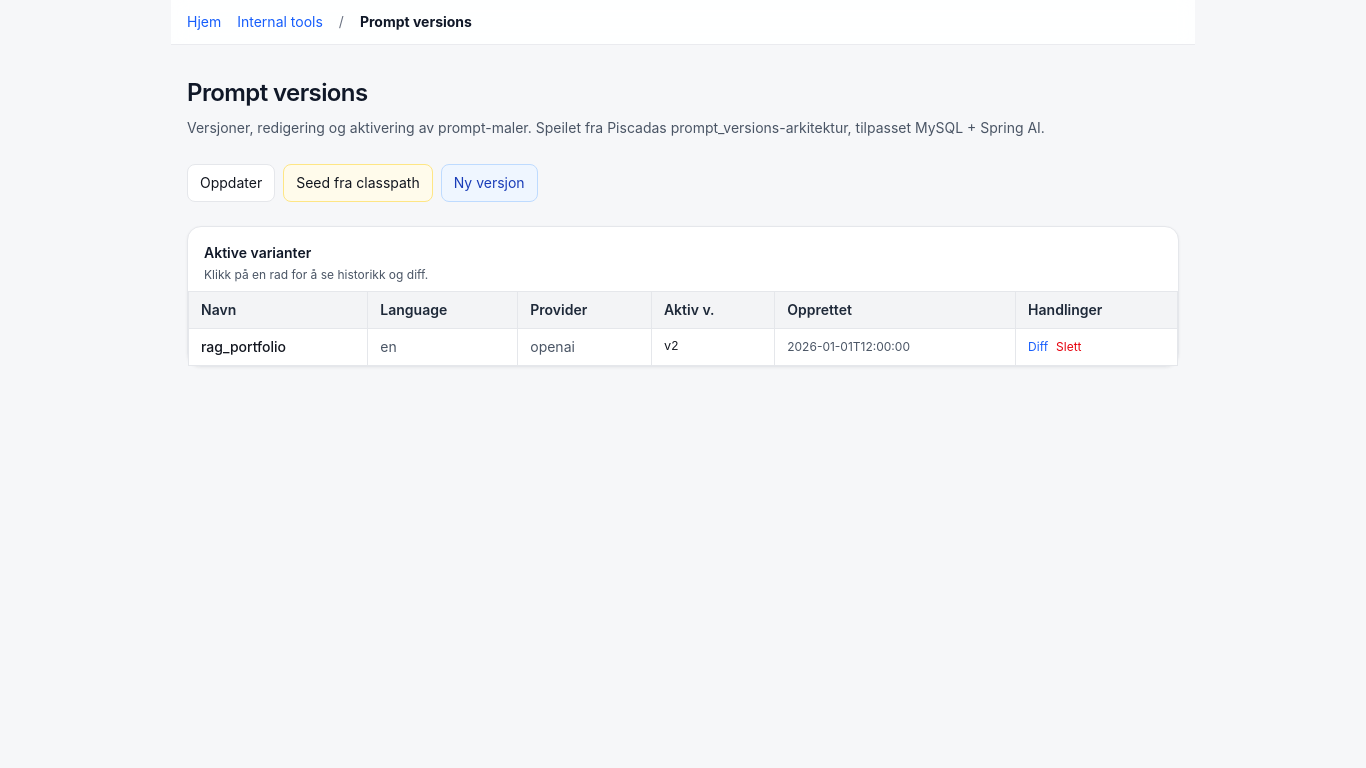
it: Admin CRUD views (integration-style) › AdminPromptsView loads history and diff for a variant
This screenshot has width=1366, height=768.
Click the row "rag_portfolio en openai v2 2026-01-01T12:00:00 Diff Slett": (683, 347) x1=188 y1=328 x2=1178 y2=365
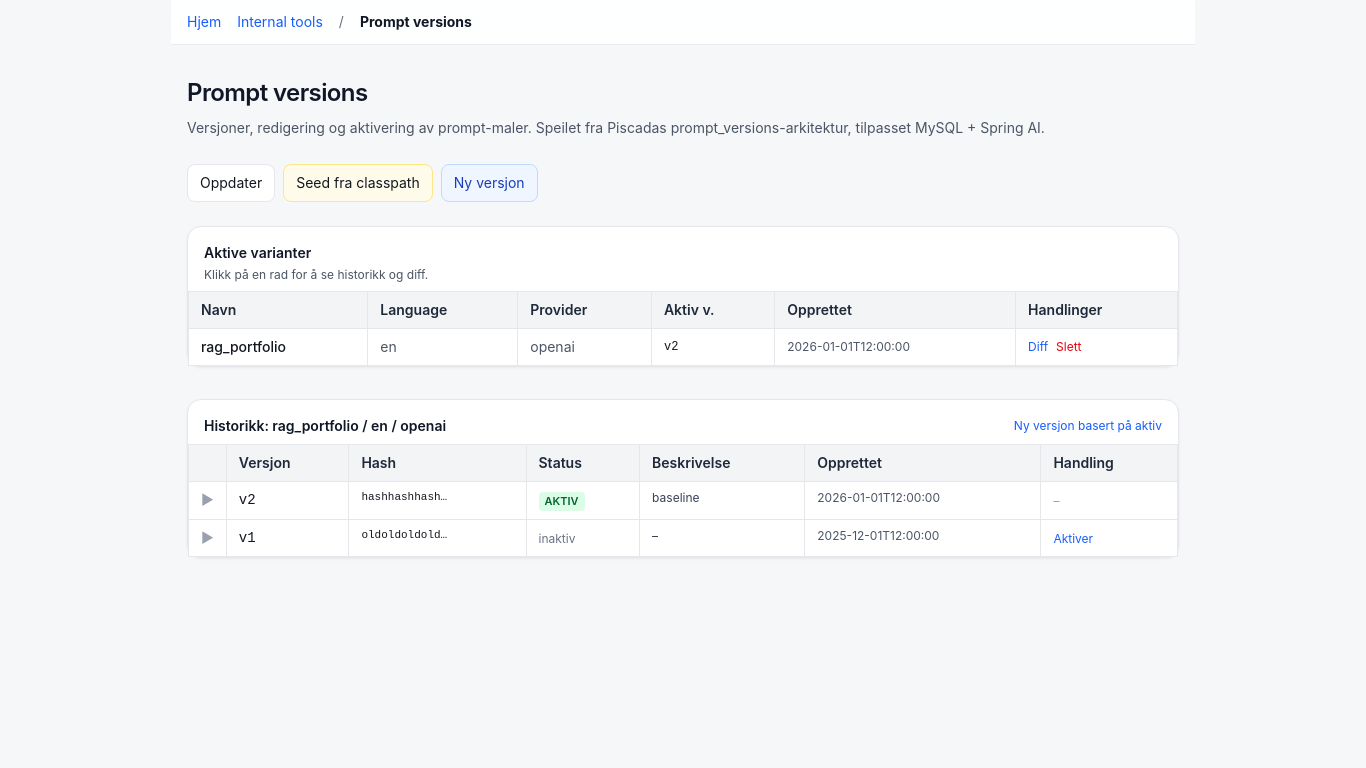
Check: the text "v2" is shown, box x1=651 y1=328 x2=775 y2=365
Check: the text "Historikk:" is shown, box x1=204 y1=417 x2=446 y2=434
Click the button "Diff": (1038, 347) x1=1028 y1=339 x2=1048 y2=355
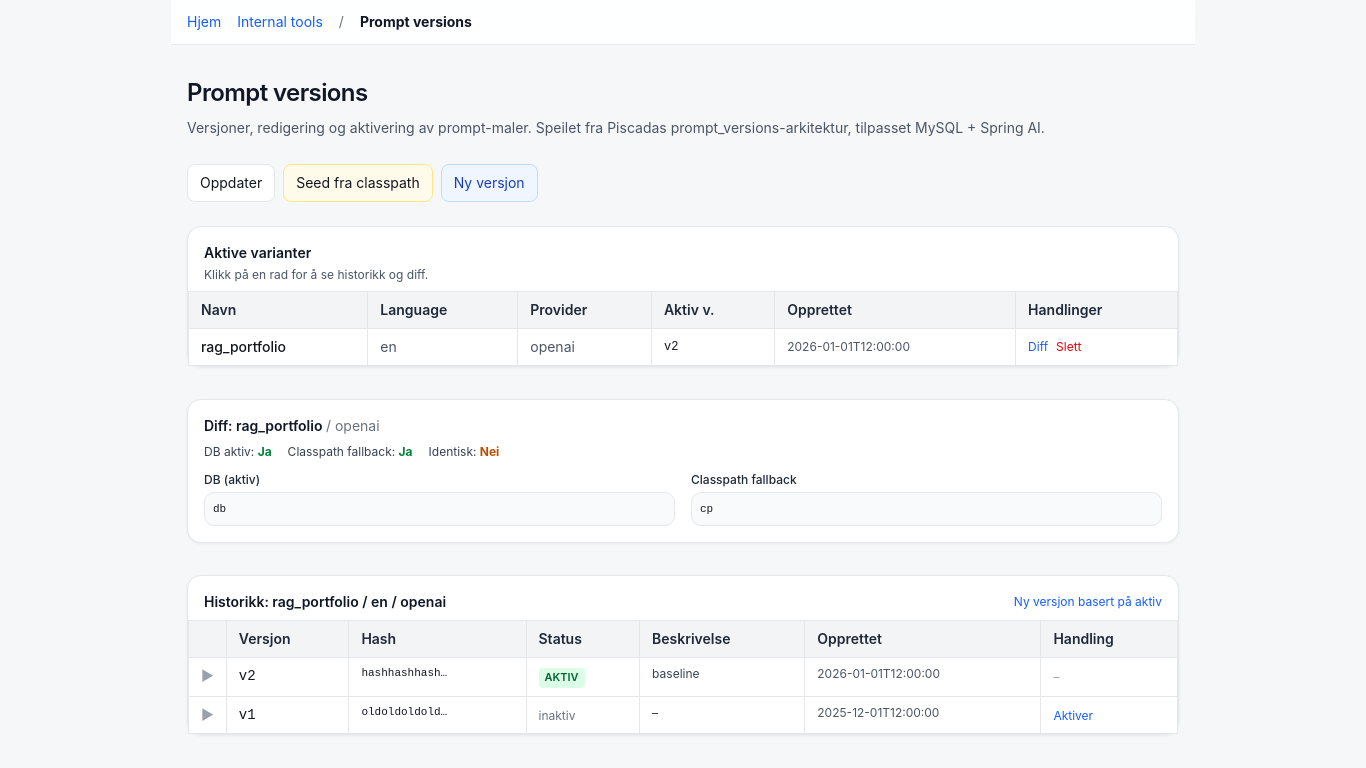
Check: the text "Classpath fallback" is shown, box x1=288 y1=444 x2=399 y2=459
